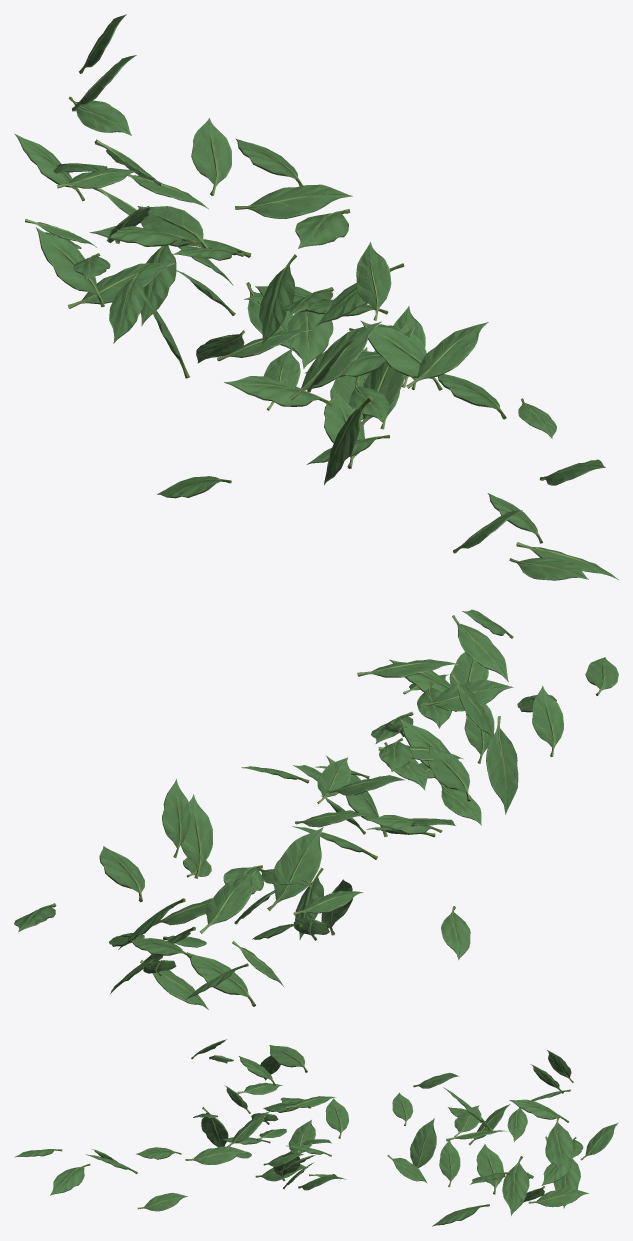
The model's file is holy_canopy17_complete.glb.
3 renders of one model, top to bottom at view 1: azimuth 30°, elevation 25°; view 2: azimuth 150°, elevation 25°; view 3: azimuth 270°, elevation 25°, orthographic. The views are drawn at different scales.
Visible parts, largest first — view 1: holy_canopy17; view 2: holy_canopy17; view 3: holy_canopy17.
Boxes of the visible parts, x1=… form: holy_canopy17: x1=14, y1=14, x2=618, y2=580; holy_canopy17: x1=14, y1=609, x2=618, y2=1009; holy_canopy17: x1=14, y1=1039, x2=618, y2=1226.
Size of the model in its own units: 9.11 by 8.31 by 26.67.
1 material, 1 textured.
